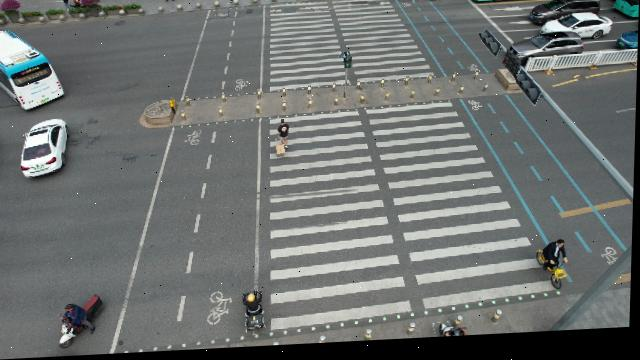non-motor-vehicle: (58, 296, 105, 349), (537, 244, 570, 296), (244, 293, 269, 337), (442, 329, 469, 342)
person: (276, 122, 291, 159), (230, 0, 237, 2)
